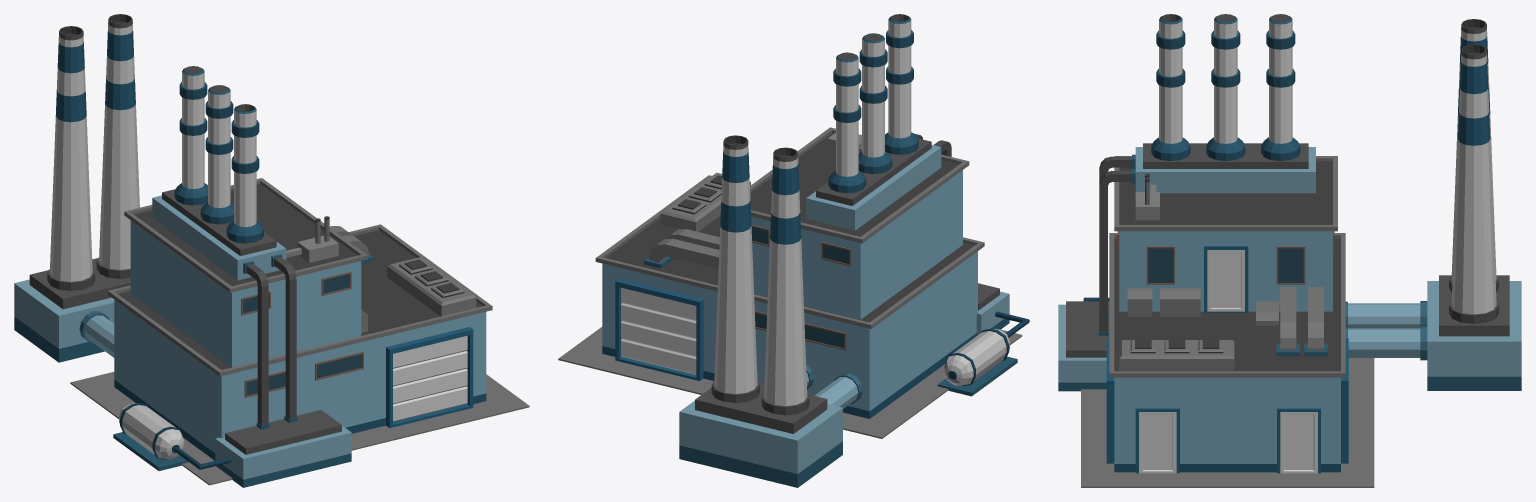
3 views of the same model, side by side, from view 1: azimuth 30°, elevation 25°; view 2: azimuth 150°, elevation 25°; view 3: azimuth 270°, elevation 25° (orthographic). The views are drawn at different scales.
Parts seen in each view (by area): view 1: factorybuilding_c.001; view 2: factorybuilding_c.001; view 3: factorybuilding_c.001.
Boxes of the visible parts, bbox=[...] form: factorybuilding_c.001: bbox=[14, 14, 529, 487]; factorybuilding_c.001: bbox=[558, 14, 1029, 487]; factorybuilding_c.001: bbox=[1058, 14, 1521, 487].
Size of the model in its own units: 25.05 by 22.86 by 27.72.
Materials: 1 (1 with a texture image).
